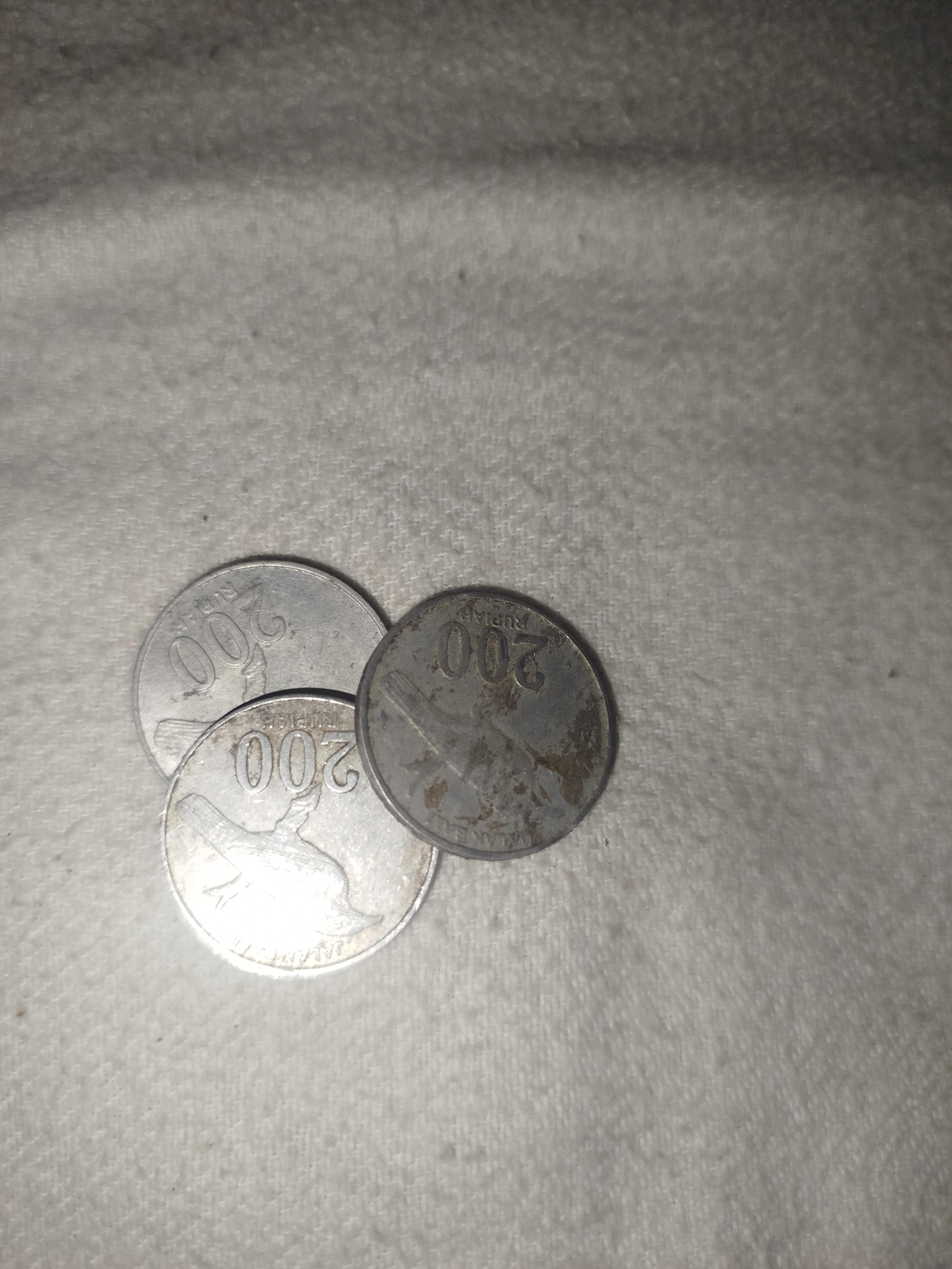coin_200_e2003: (159, 689, 446, 986), (355, 581, 618, 860), (130, 552, 397, 797)
